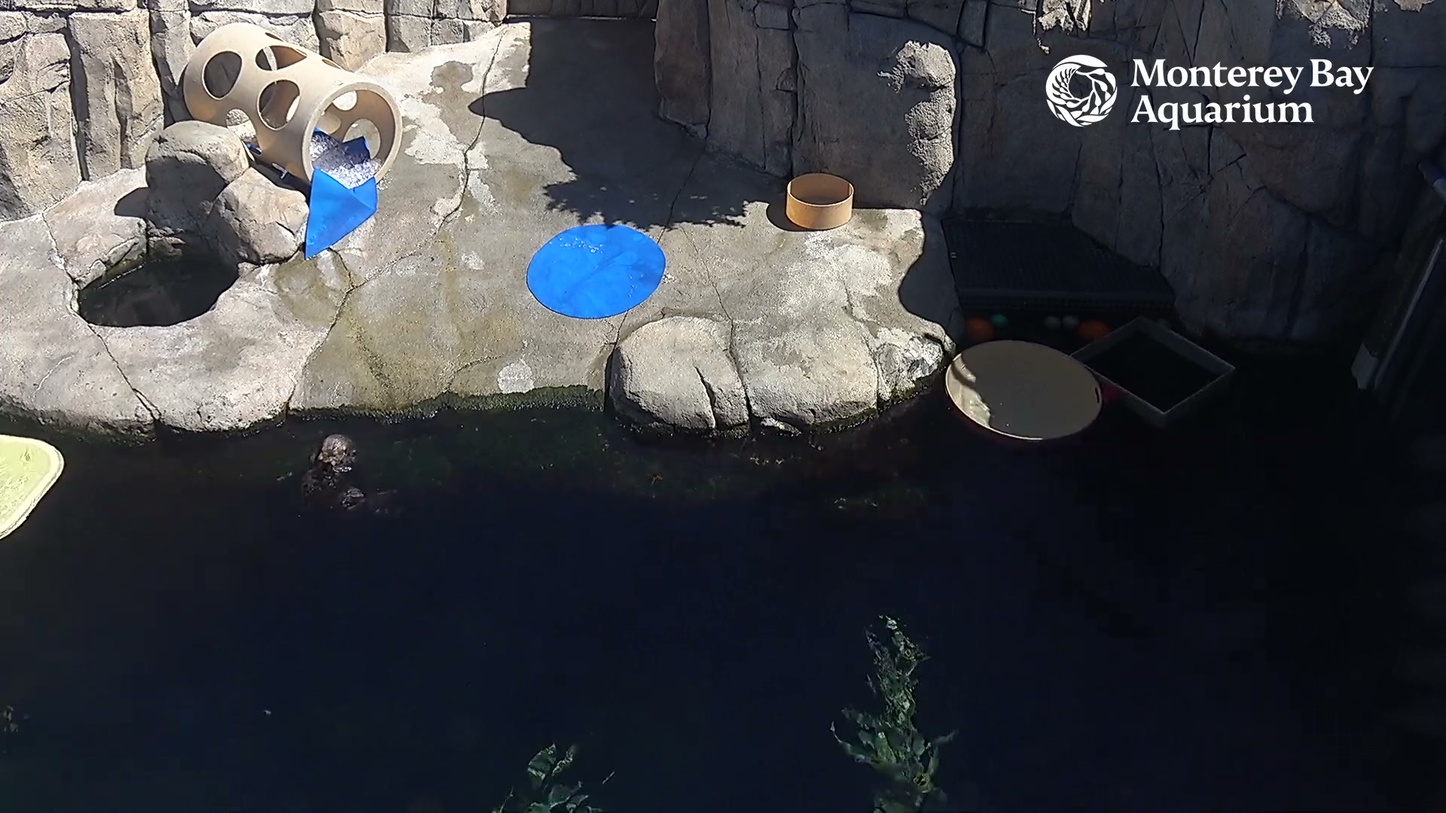Southern Sea Otter: (253, 431, 452, 546)
